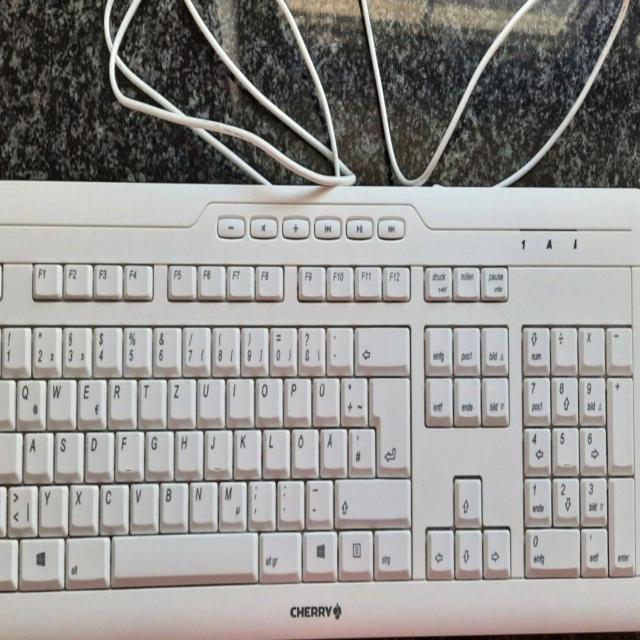0: (269, 323, 296, 371)
1: (2, 324, 29, 371)
2: (31, 324, 61, 372)
3: (62, 324, 91, 372)
4: (93, 324, 120, 371)
5: (122, 324, 150, 371)
6: (152, 324, 181, 372)
7: (182, 324, 209, 369)
8: (212, 323, 239, 370)
9: (241, 323, 268, 371)
a: (24, 429, 50, 476)
accent: (326, 323, 351, 368)
ae: (320, 424, 345, 470)
alt-left: (63, 536, 109, 584)
altgr-right: (260, 530, 302, 579)
b: (160, 479, 187, 524)
c: (100, 480, 127, 527)
caret: (0, 324, 14, 369)
comma: (248, 477, 273, 523)
d: (85, 428, 111, 475)
del: (355, 323, 409, 368)
e: (77, 375, 104, 423)
enter: (368, 371, 409, 470)
f: (115, 428, 141, 473)
g: (145, 428, 171, 473)
h: (175, 428, 201, 473)
hash: (348, 424, 374, 472)
i: (227, 375, 251, 419)
j: (204, 427, 230, 472)
k: (234, 426, 259, 471)
keyboard: (0, 177, 640, 640)
l: (262, 425, 288, 471)
less: (7, 482, 36, 530)
m: (218, 477, 245, 524)
minus: (305, 476, 332, 523)
n: (189, 478, 215, 524)
o: (255, 374, 280, 418)
oe: (292, 424, 317, 471)
p: (284, 374, 309, 418)
plus: (340, 373, 366, 419)
point: (277, 476, 303, 522)
q: (16, 375, 45, 425)
r: (108, 375, 134, 422)
s: (54, 428, 81, 475)
shift-left: (0, 482, 18, 531)
shift-lock: (0, 428, 25, 476)
shift-right: (335, 475, 409, 519)
space: (112, 530, 258, 582)
ss: (298, 323, 324, 371)
strg-left: (0, 535, 25, 584)
strg-right: (373, 526, 411, 575)
t: (139, 376, 163, 421)
tab: (0, 375, 21, 423)
u: (197, 375, 222, 420)
ue: (312, 373, 337, 419)
v: (131, 480, 156, 525)
w: (47, 375, 73, 421)
x: (70, 482, 97, 529)
y: (39, 483, 66, 528)
z: (168, 375, 193, 421)
